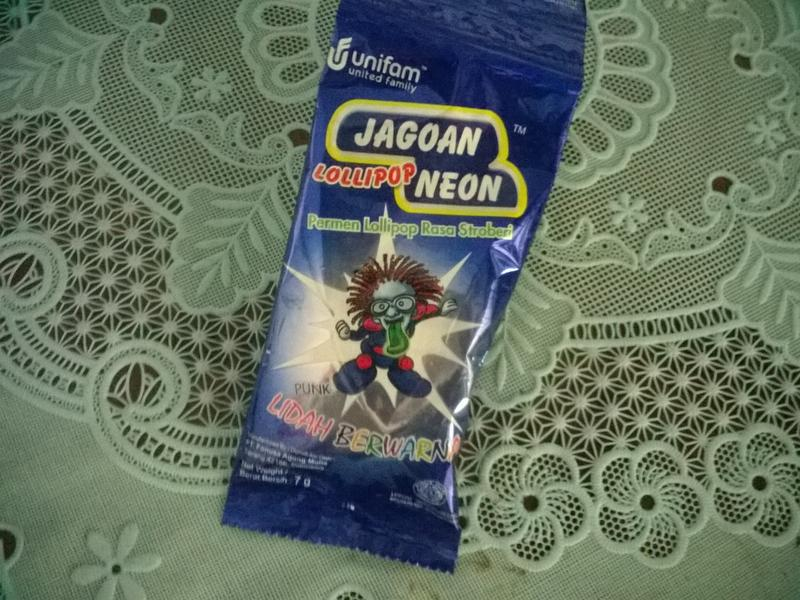jagoan neon: (223, 1, 586, 573)
